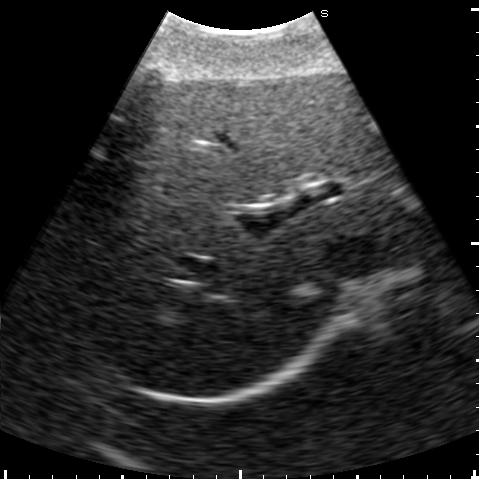IVC: (324, 236, 388, 276)
S1: (326, 194, 433, 256)
S3: (322, 84, 398, 184)
S4: (126, 75, 348, 202)
